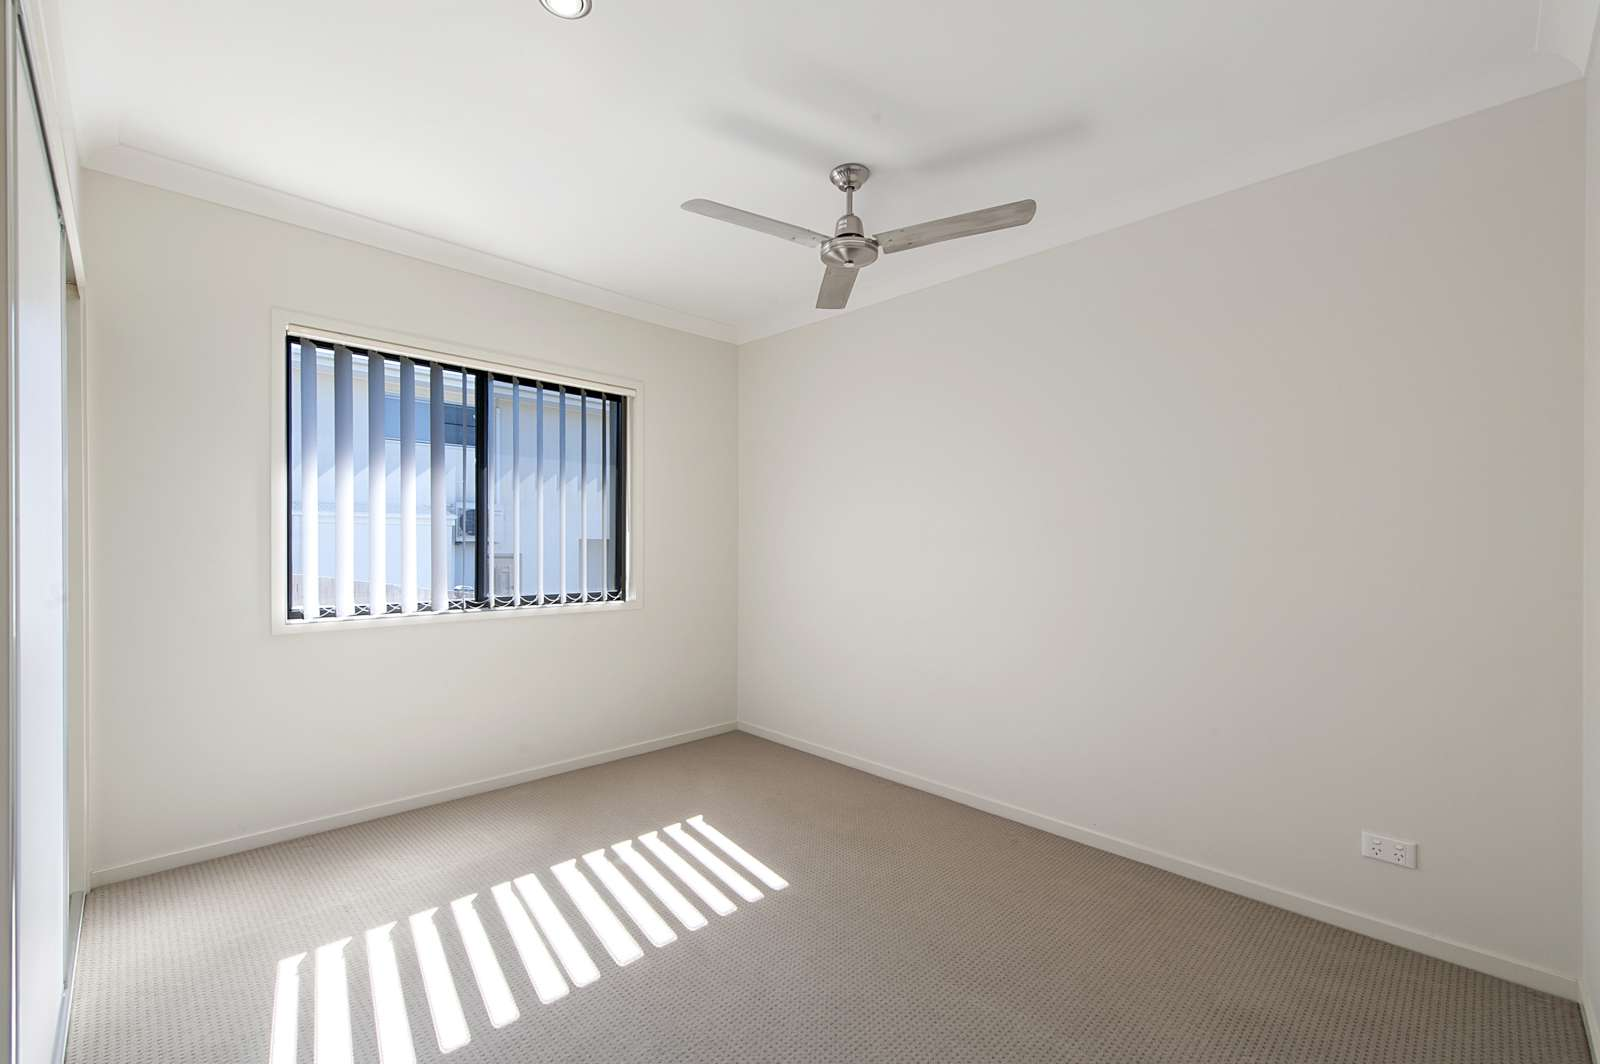ceiling fan: (648, 129, 1064, 331)
